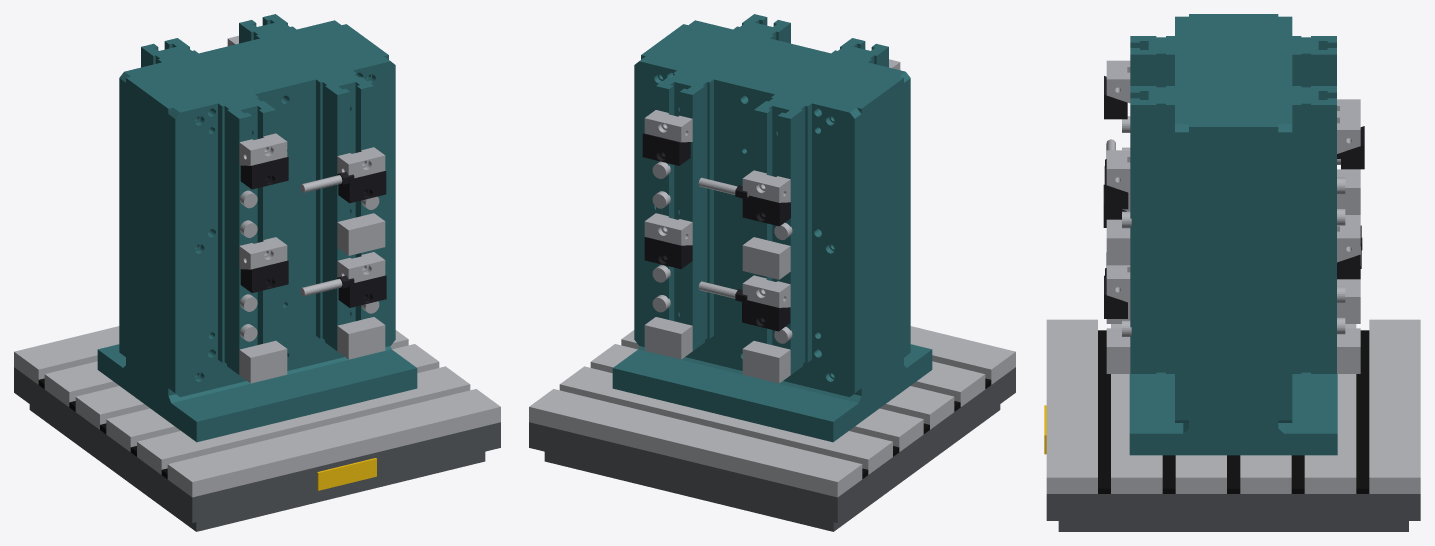
The model's file is pallet_part00_phase10.glb.
3 renders of one model, left to right at view 1: azimuth 30°, elevation 25°; view 2: azimuth 150°, elevation 25°; view 3: azimuth 270°, elevation 25°, orthographic. The views are drawn at different scales.
Parts seen in each view (by area): view 1: fixture__fx_paint, pallet_body__pb_steel, pallet_body__pb_steel_dark, fixture__fx_steel, pallet_body__pb_safety_yellow, gripper_jaw_4__fx_oxide, gripper_jaw_3__fx_oxide, gripper_jaw_5__fx_oxide, gripper_jaw_8__fx_oxide; view 2: fixture__fx_paint, pallet_body__pb_steel, pallet_body__pb_steel_dark, fixture__fx_steel, gripper_jaw_7__fx_oxide, gripper_jaw_6__fx_oxide, gripper_jaw_1__fx_oxide, gripper_jaw_2__fx_oxide; view 3: fixture__fx_paint, pallet_body__pb_steel, pallet_body__pb_steel_dark, fixture__fx_steel, pallet_body__pb_rubber, gripper_jaw_7__fx_oxide, gripper_jaw_8__fx_oxide, gripper_jaw_3__fx_oxide, gripper_jaw_5__fx_oxide, gripper_jaw_6__fx_oxide.
Part boxes in pixels (x1=…): fixture__fx_paint: x1=97, y1=14, x2=417, y2=442; pallet_body__pb_steel: x1=14, y1=326, x2=500, y2=497; pallet_body__pb_steel_dark: x1=14, y1=367, x2=500, y2=531; fixture__fx_steel: x1=227, y1=35, x2=385, y2=383; pallet_body__pb_safety_yellow: x1=317, y1=458, x2=376, y2=490; gripper_jaw_4__fx_oxide: x1=240, y1=260, x2=288, y2=292; gripper_jaw_3__fx_oxide: x1=240, y1=157, x2=288, y2=189; gripper_jaw_5__fx_oxide: x1=338, y1=275, x2=386, y2=307; gripper_jaw_8__fx_oxide: x1=338, y1=171, x2=386, y2=203; fixture__fx_paint: x1=612, y1=14, x2=932, y2=442; pallet_body__pb_steel: x1=529, y1=326, x2=1015, y2=497; pallet_body__pb_steel_dark: x1=529, y1=367, x2=1015, y2=531; fixture__fx_steel: x1=644, y1=59, x2=900, y2=383; gripper_jaw_7__fx_oxide: x1=642, y1=133, x2=690, y2=165; gripper_jaw_6__fx_oxide: x1=644, y1=237, x2=692, y2=268; gripper_jaw_1__fx_oxide: x1=742, y1=300, x2=790, y2=331; gripper_jaw_2__fx_oxide: x1=742, y1=195, x2=790, y2=226; fixture__fx_paint: x1=1129, y1=14, x2=1337, y2=455; pallet_body__pb_steel: x1=1046, y1=319, x2=1420, y2=493; pallet_body__pb_steel_dark: x1=1046, y1=494, x2=1420, y2=531; fixture__fx_steel: x1=1106, y1=60, x2=1360, y2=373; pallet_body__pb_rubber: x1=1098, y1=330, x2=1369, y2=493; gripper_jaw_7__fx_oxide: x1=1341, y1=126, x2=1364, y2=169; gripper_jaw_8__fx_oxide: x1=1104, y1=166, x2=1128, y2=209; gripper_jaw_3__fx_oxide: x1=1104, y1=76, x2=1127, y2=119; gripper_jaw_5__fx_oxide: x1=1104, y1=275, x2=1127, y2=318; gripper_jaw_6__fx_oxide: x1=1337, y1=254, x2=1360, y2=279.
Size of the model in its own units: 0.63 by 0.72 by 0.634.
